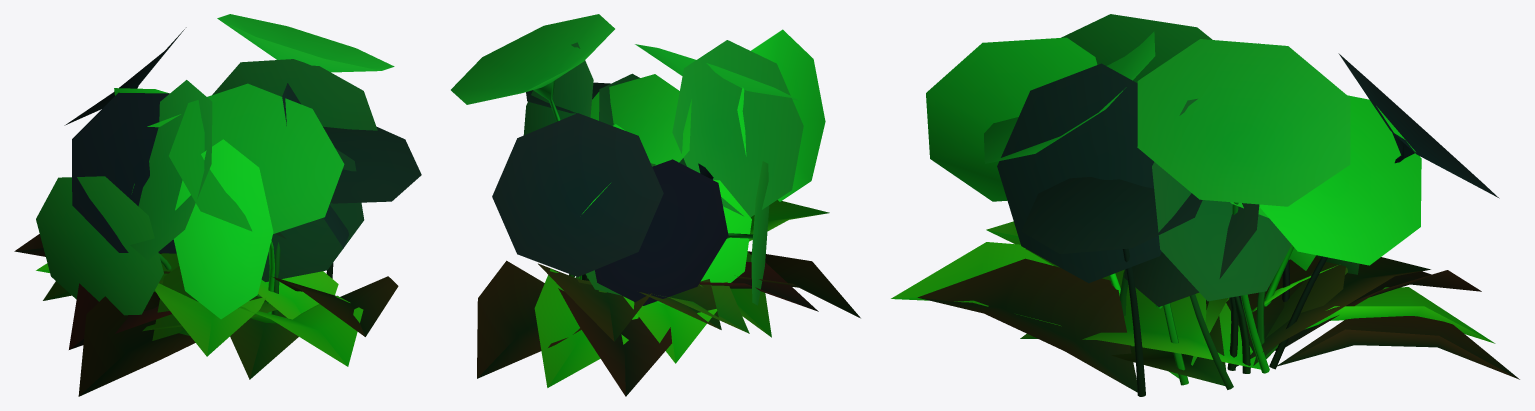
Rendered from mv_FlowerB.fbx.
The picture shows the model from 3 angles, left to right: view 1: azimuth 30°, elevation 25°; view 2: azimuth 150°, elevation 25°; view 3: azimuth 270°, elevation 25°; orthographic projection. The views are drawn at different scales.
Parts seen in each view (by area): view 1: FlowerB_LOD0; view 2: FlowerB_LOD0; view 3: FlowerB_LOD0.
Part boxes in pixels (x1,y1,x2,y2): FlowerB_LOD0: (14, 14, 421, 396); FlowerB_LOD0: (451, 14, 860, 396); FlowerB_LOD0: (891, 14, 1519, 396).
Size of what is drawn, in the model's own units: 20.98 by 15.68 by 26.31.
